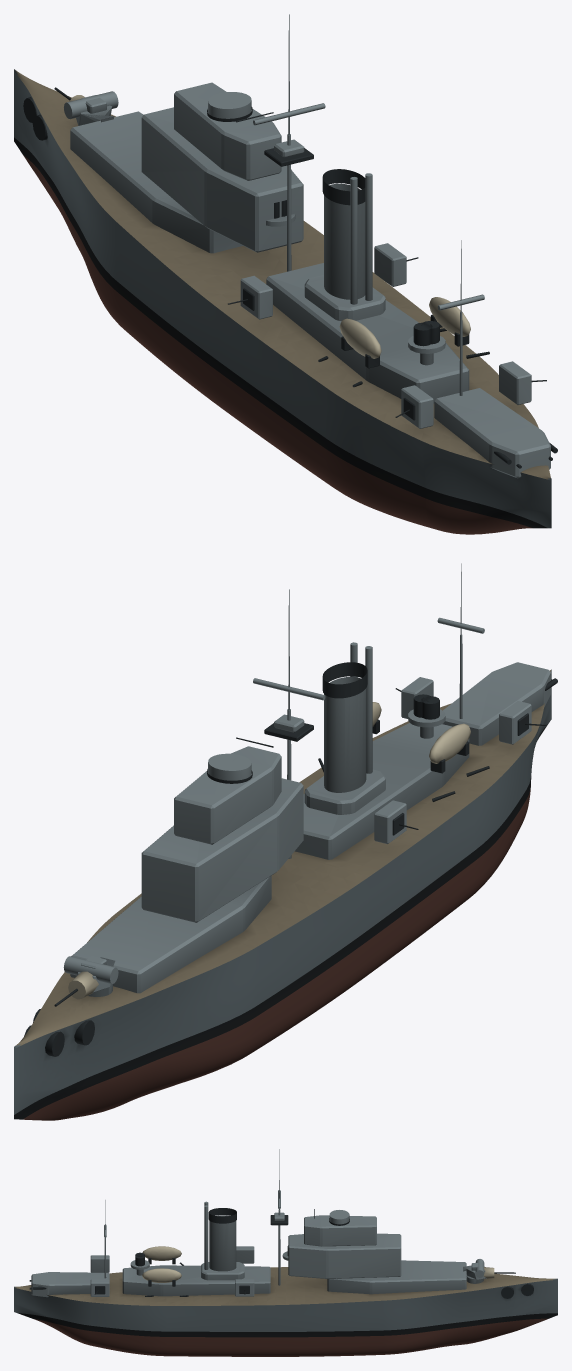
The model's file is hmcs-sackville.glb.
The picture shows the model from 3 angles, top to bottom: view 1: azimuth 30°, elevation 25°; view 2: azimuth 150°, elevation 25°; view 3: azimuth 270°, elevation 25°; orthographic projection. The views are drawn at different scales.
Parts seen in each view (by area): view 1: hmcs-sackville; view 2: hmcs-sackville; view 3: hmcs-sackville.
Part boxes in pixels (x1,y1,x2,y2): hmcs-sackville: (14, 14, 557, 534); hmcs-sackville: (14, 563, 557, 1120); hmcs-sackville: (14, 1149, 557, 1356).
Size of the model in its own units: 12.77 by 24.65 by 62.5.
